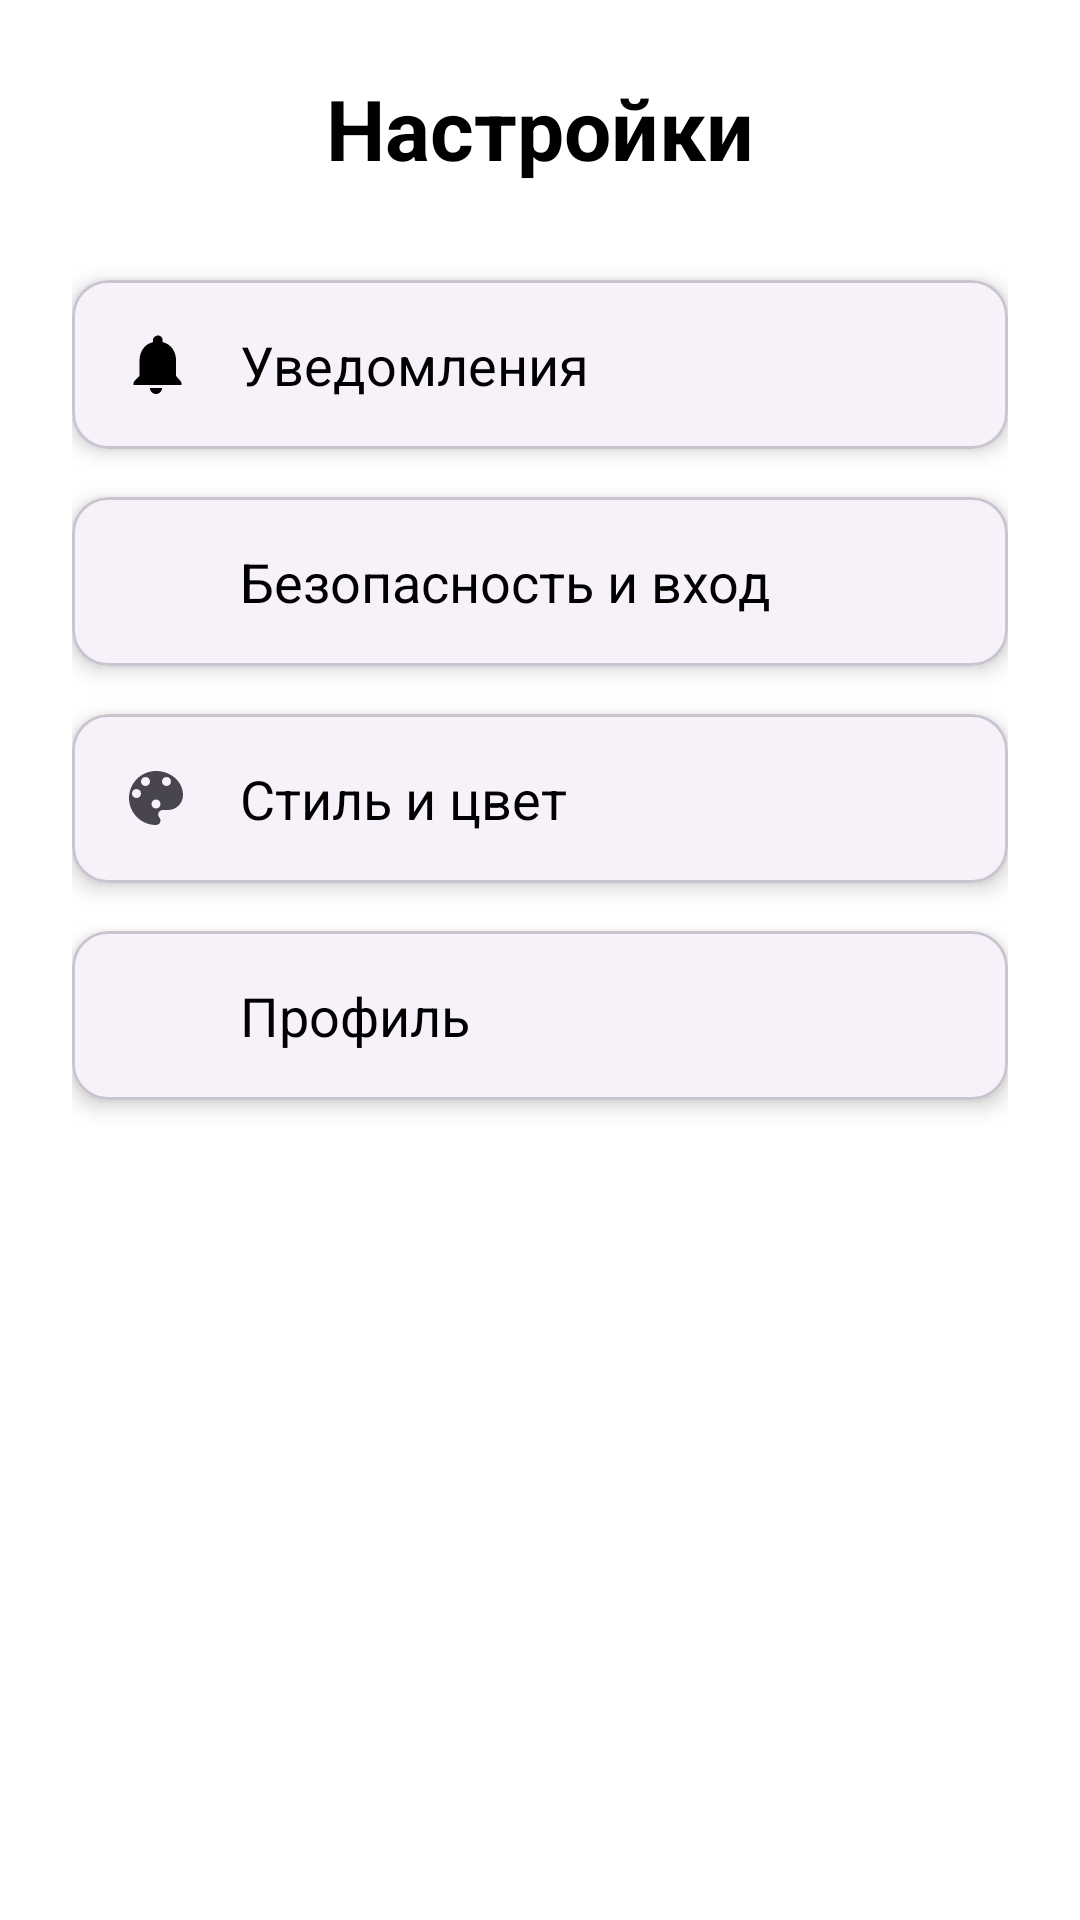

Where icons sit on this 1080x1920 app screen, as [left=x1, top=y1, right=x2, bottom=y2]:
notification: [left=133, top=335, right=182, bottom=394]
palette: [left=129, top=771, right=183, bottom=825]
